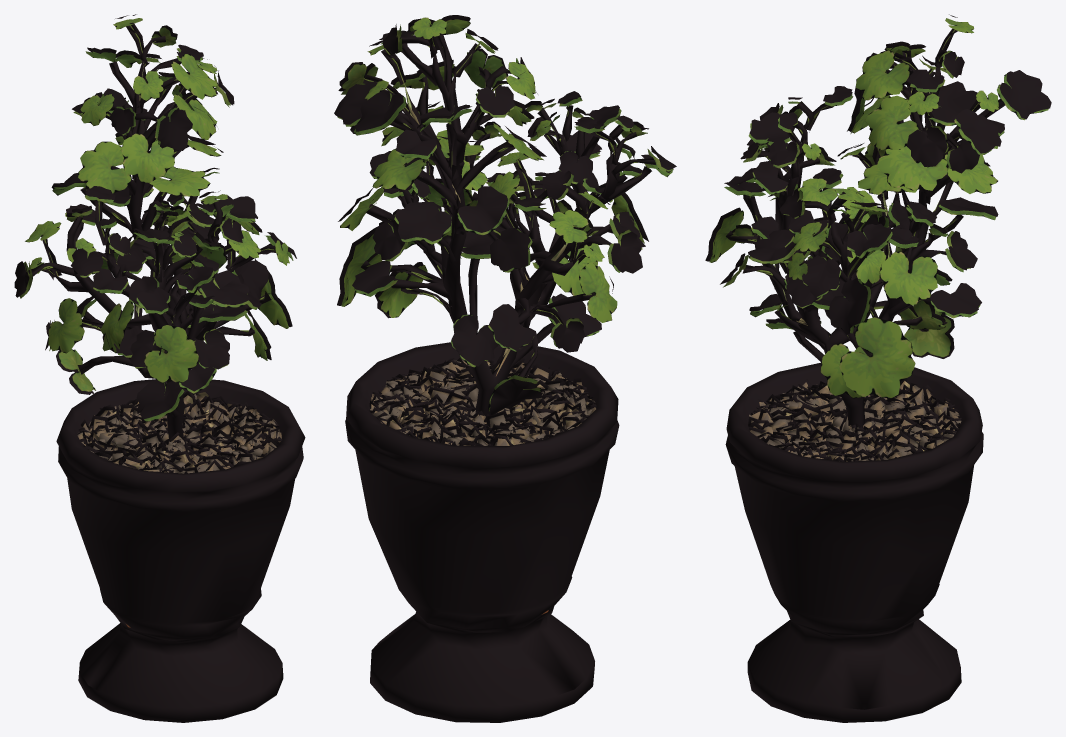
The model's file is SM_Int_PottedPlantC.fbx.
The picture shows the model from 3 angles, left to right: view 1: azimuth 30°, elevation 25°; view 2: azimuth 150°, elevation 25°; view 3: azimuth 270°, elevation 25°; orthographic projection. The views are drawn at different scales.
Parts seen in each view (by area): view 1: SM_Int_PottedPlantC; view 2: SM_Int_PottedPlantC; view 3: SM_Int_PottedPlantC.
Part boxes in pixels (box(x1,y1,x2,y2)): SM_Int_PottedPlantC: box(14, 14, 305, 722); SM_Int_PottedPlantC: box(334, 15, 676, 722); SM_Int_PottedPlantC: box(705, 14, 1051, 722).
Size of what is drawn, in the model's own units: 0.6004 by 1.35 by 0.643.
